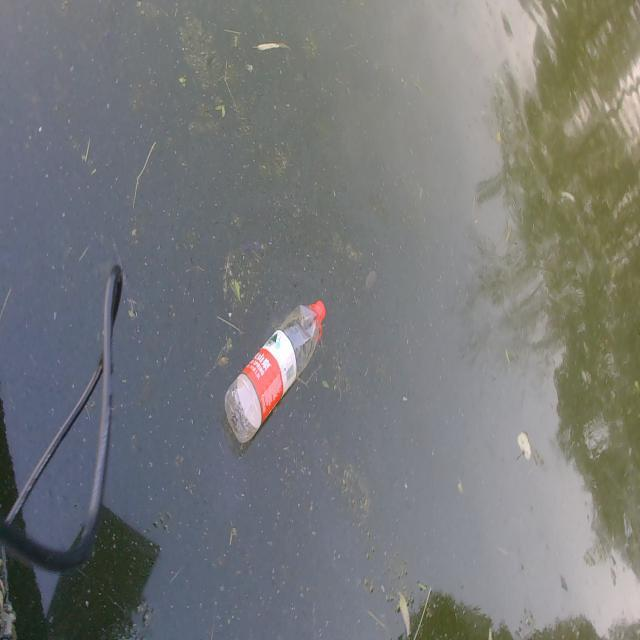garbage: (223, 298, 325, 445)
